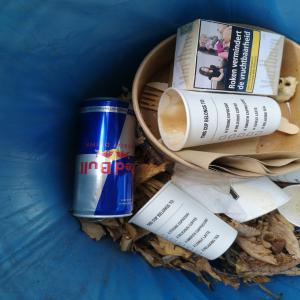Can: (72, 97, 136, 220)
Cup: (130, 182, 240, 262), (158, 88, 282, 153)
Trash: (170, 19, 289, 99)
